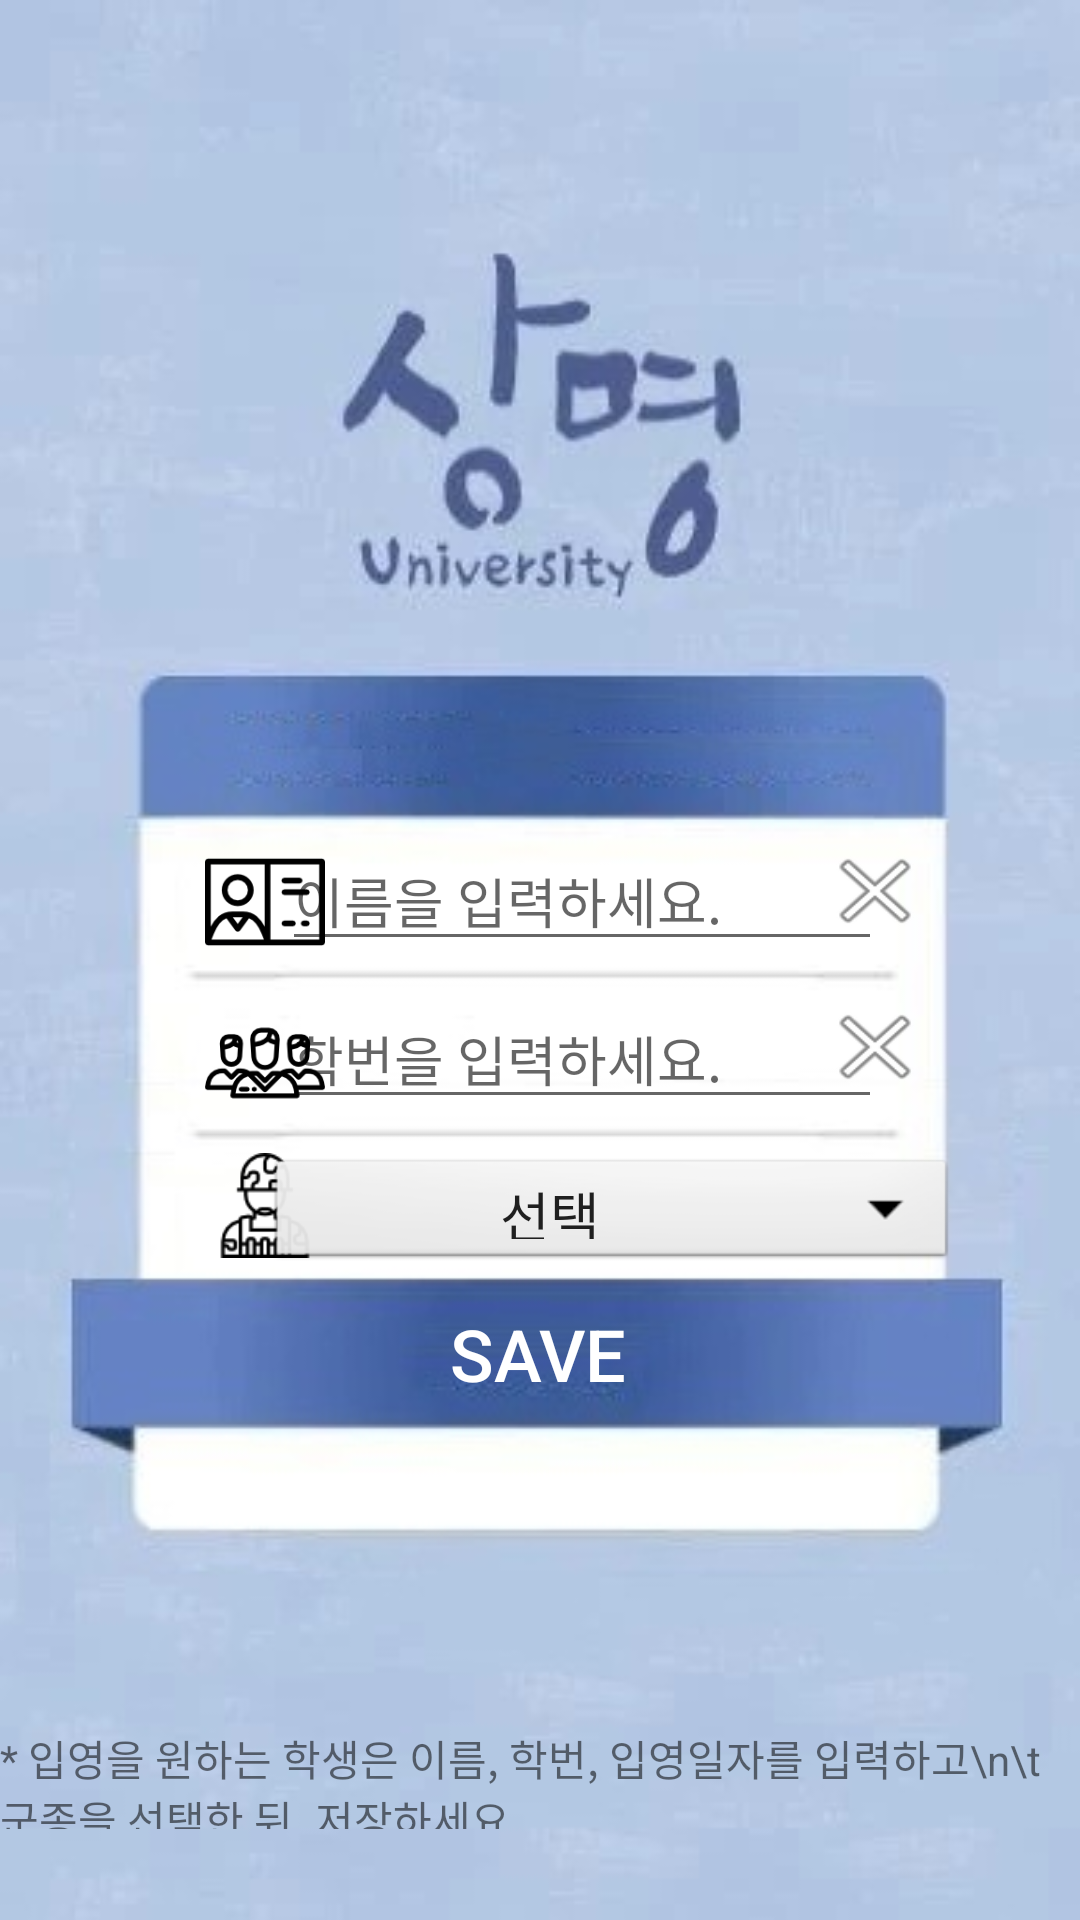

Where to tap for icons on this 1080px x 1920px app screen, as (x,y):
close clear cancel: (875,891), (875,1047)
student id: (272,902)
